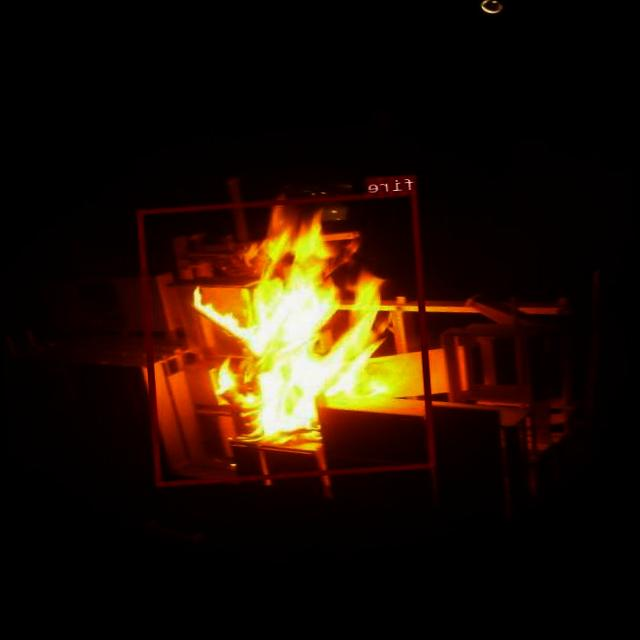fire: (137, 190, 437, 486)
